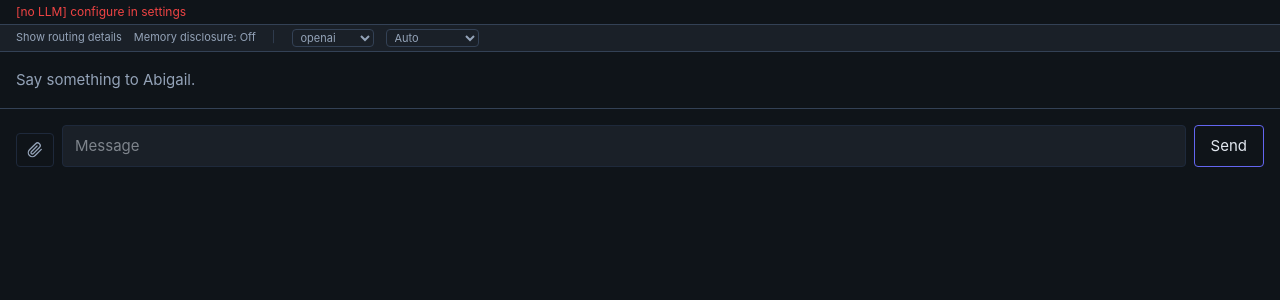
Test: ChatRendering parity › renders streaming response with tier and model metadata
# Type and send a message
Type "hello" into the text box named "message input" at {"x": 624, "y": 146}, box [62,125,1186,167]
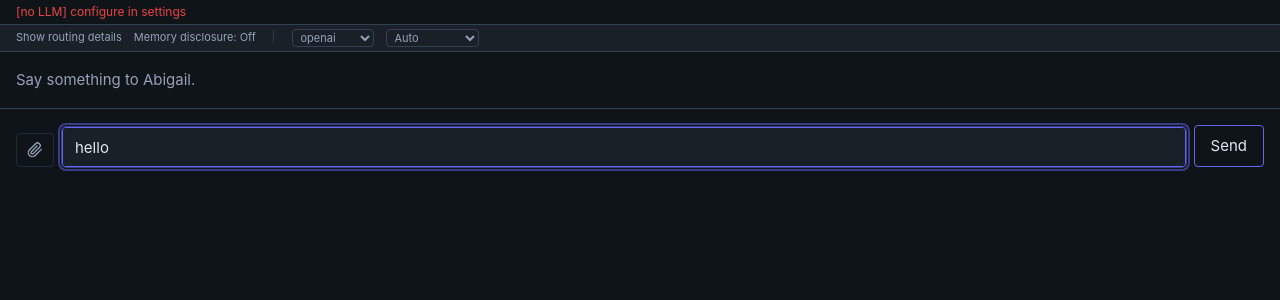
Press Enter
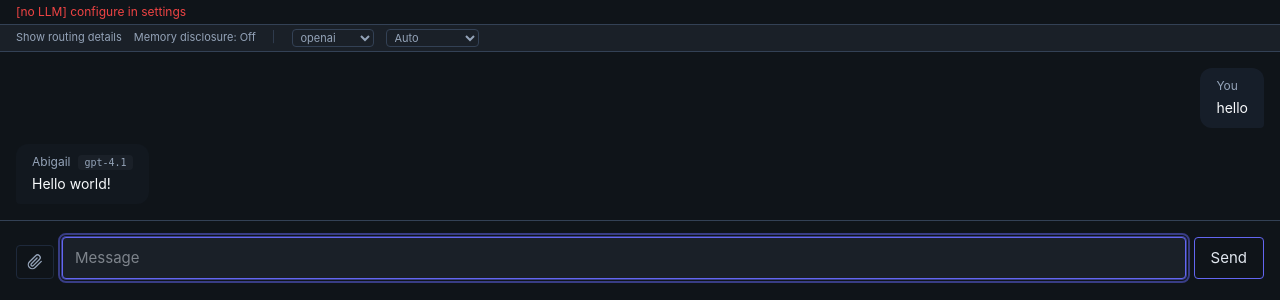
Result: the text "Hello world!" is shown at [32,175,111,192]
